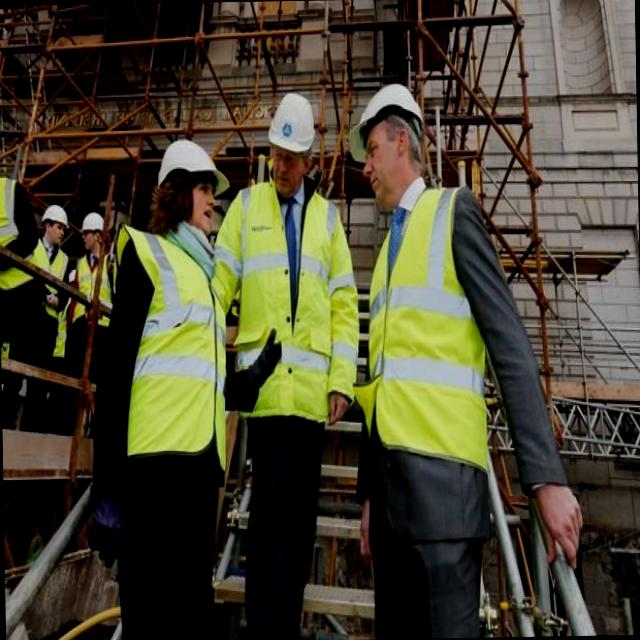helmet: (153, 134, 230, 208), (351, 77, 429, 146), (263, 90, 319, 160), (39, 200, 71, 233), (80, 207, 106, 236)
no-goggles: (358, 122, 404, 168), (270, 142, 306, 172), (184, 173, 219, 200)
vest: (362, 172, 473, 474), (228, 180, 354, 430), (118, 231, 228, 473), (68, 248, 114, 330), (36, 243, 70, 341)
